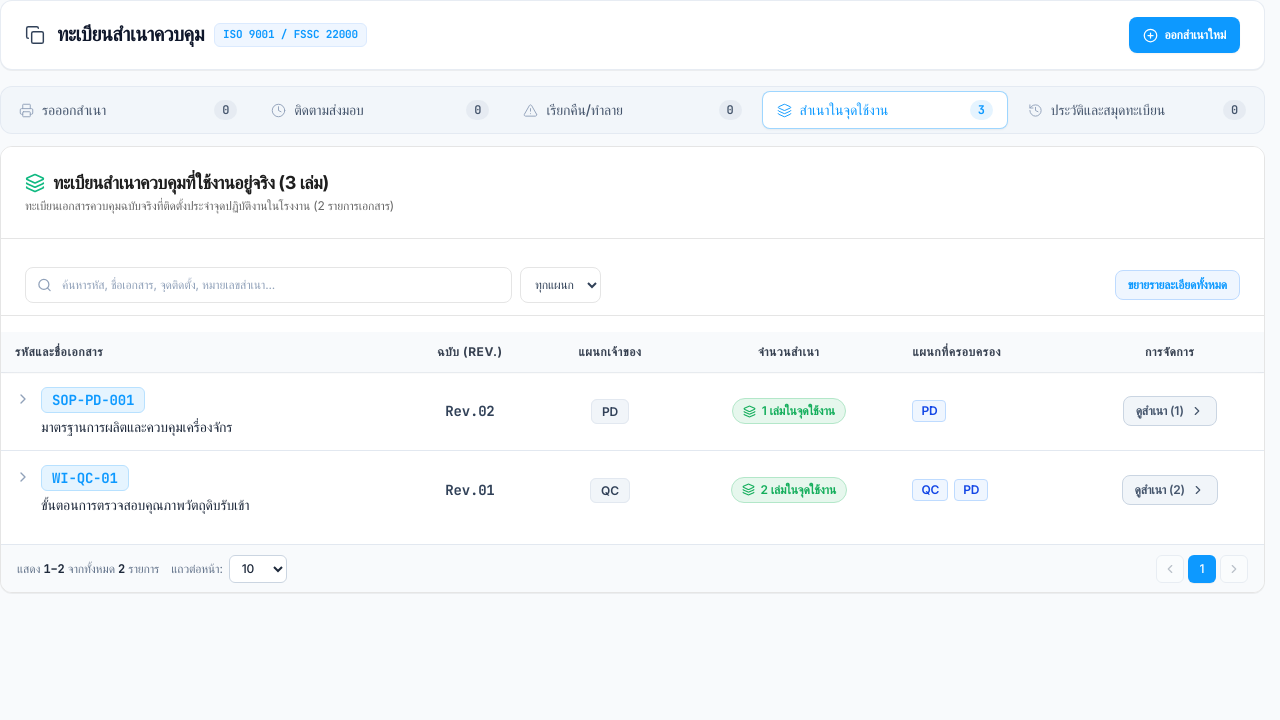
Scenario: Controlled Copy Master-Detail Accordion & DocCode Resolution › 2. Master-Detail Accordion Table in Tab 4 › auto-expands matching groups when searching
Type "Mixing" into the field with placeholder "ค้นหารหัส, ชื่อเอกสาร, จุดติดตั้ง, หมายเลขสำเนา...".
click(268, 285); type("Mixing")  # box 25,267 -> 512,303
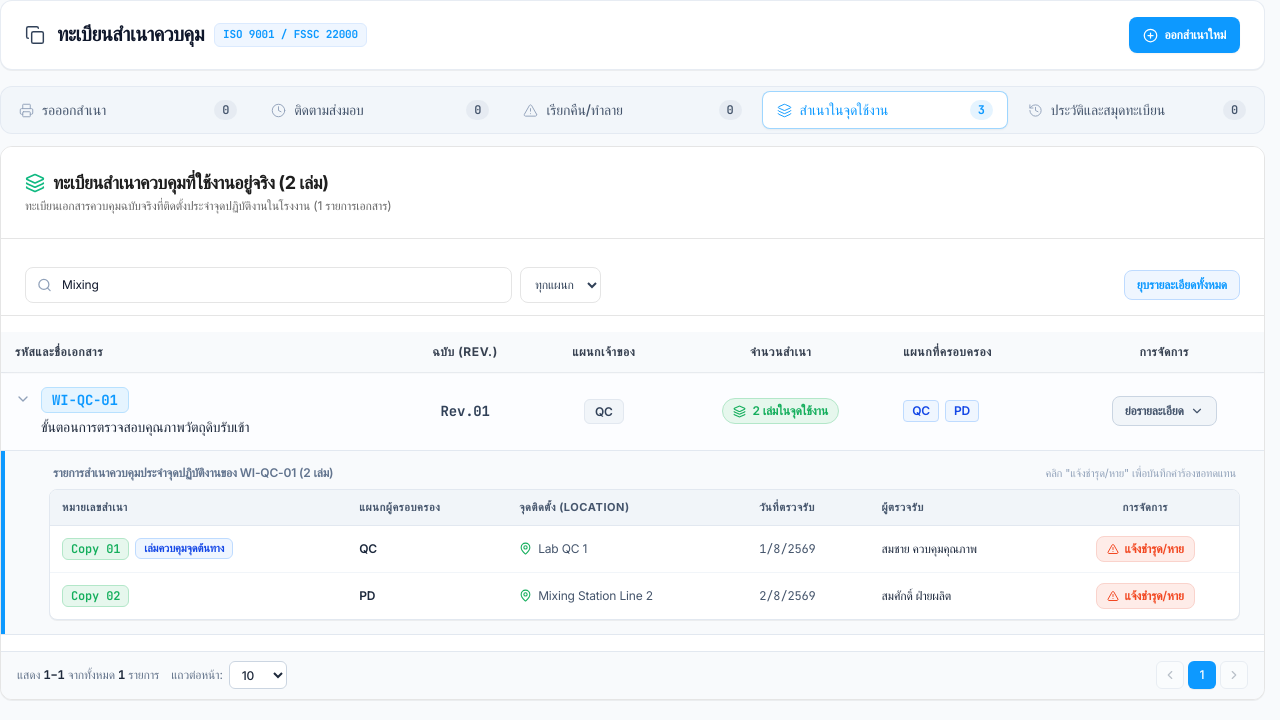
Expected: the text "Mixing Station Line 2" is shown, 538,588 -> 653,604
